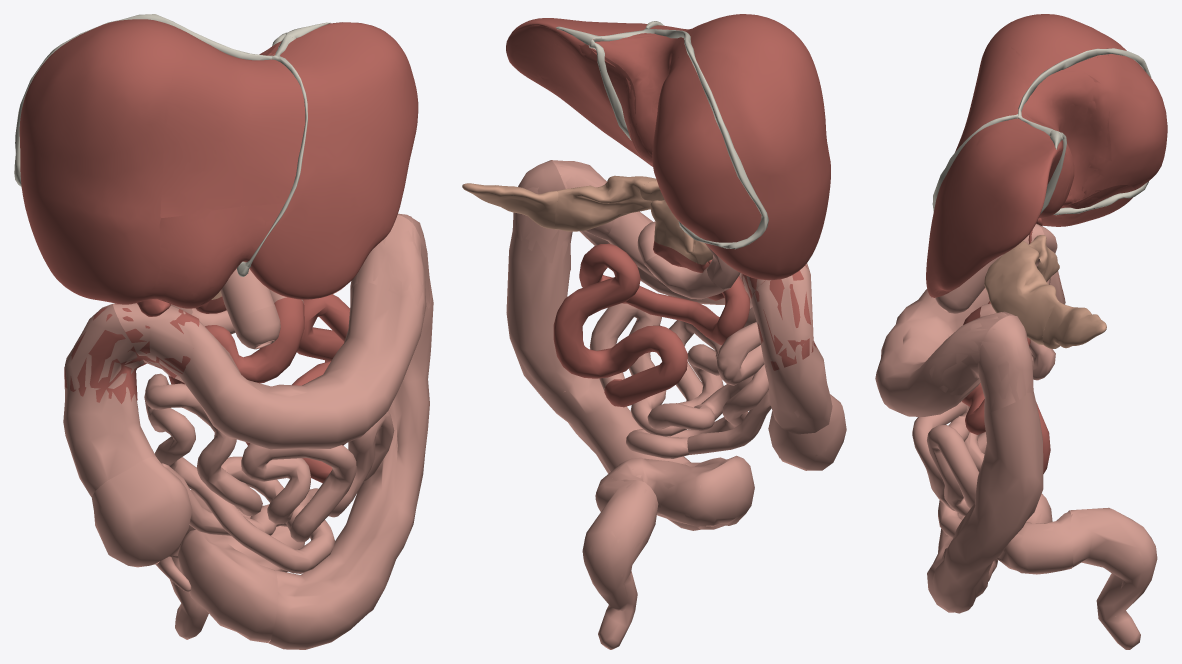
File: adult_female.digestive.LOD1.glb
3 renders of one model, left to right at view 1: azimuth 30°, elevation 25°; view 2: azimuth 150°, elevation 25°; view 3: azimuth 270°, elevation 25°, orthographic. The views are drawn at different scales.
Visible parts, largest first — view 1: ADULT.FEMALE.DIGESTIVE.CAPSULE_OF_THE_LIVER, ADULT.FEMALE.DIGESTIVE.TRANSVERSE_COLON, ADULT.FEMALE.DIGESTIVE.ILEUM, ADULT.FEMALE.DIGESTIVE.DESCENDING_COLON, ADULT.FEMALE.DIGESTIVE.LEFT_SUPEROMEDIAL_SEGMENT1, ADULT.FEMALE.DIGESTIVE.ASCENDING_COLON, ADULT.FEMALE.DIGESTIVE.SIGMOID_COLON, ADULT.FEMALE.DIGESTIVE.CAECUM, ADULT.FEMALE.DIGESTIVE.JEJENUM, ADULT.FEMALE.DIGESTIVE.LEFT_INFEROMEDIAL_SEGMENT, ADULT.FEMALE.DIGESTIVE.HEPATIC_FLEXURE_OF_COLON, ADULT.FEMALE.DIGESTIVE.CORONARY_LIGAMENT_OF_LIVER (+6 smaller); view 2: ADULT.FEMALE.DIGESTIVE.CAPSULE_OF_THE_LIVER, ADULT.FEMALE.DIGESTIVE.BARE_AREA_OF_LIVER, ADULT.FEMALE.DIGESTIVE.DESCENDING_COLON, ADULT.FEMALE.DIGESTIVE.JEJENUM, ADULT.FEMALE.DIGESTIVE.ILEUM, ADULT.FEMALE.DIGESTIVE.ASCENDING_COLON, ADULT.FEMALE.DIGESTIVE.RECTUM, ADULT.FEMALE.DIGESTIVE.SIGMOID_COLON, ADULT.FEMALE.DIGESTIVE.DIAPHRAGMATIC_SURFACE_OF_LIVER, ADULT.FEMALE.DIGESTIVE.BODY_OF_PANCREAS, ADULT.FEMALE.DIGESTIVE.TRANSVERSE_COLON, ADULT.FEMALE.DIGESTIVE.CAECUM (+13 smaller); view 3: ADULT.FEMALE.DIGESTIVE.CAPSULE_OF_THE_LIVER, ADULT.FEMALE.DIGESTIVE.DESCENDING_COLON, ADULT.FEMALE.DIGESTIVE.BARE_AREA_OF_LIVER, ADULT.FEMALE.DIGESTIVE.TRANSVERSE_COLON, ADULT.FEMALE.DIGESTIVE.RECTUM, ADULT.FEMALE.DIGESTIVE.ILEUM, ADULT.FEMALE.DIGESTIVE.BODY_OF_PANCREAS, ADULT.FEMALE.DIGESTIVE.SIGMOID_COLON, ADULT.FEMALE.DIGESTIVE.CAUDATE_LOBE, ADULT.FEMALE.DIGESTIVE.SPLENIC_FLEXURE_OF_COLON, ADULT.FEMALE.DIGESTIVE.TAIL_OF_PANCREAS, ADULT.FEMALE.DIGESTIVE.CORONARY_LIGAMENT_OF_LIVER (+8 smaller).
Boxes of the visible parts, x1=… form: ADULT.FEMALE.DIGESTIVE.CAPSULE_OF_THE_LIVER: x1=19, y1=19, x2=418, y2=308; ADULT.FEMALE.DIGESTIVE.TRANSVERSE_COLON: x1=113, y1=215, x2=426, y2=449; ADULT.FEMALE.DIGESTIVE.ILEUM: x1=144, y1=373, x2=394, y2=573; ADULT.FEMALE.DIGESTIVE.DESCENDING_COLON: x1=268, y1=213, x2=433, y2=649; ADULT.FEMALE.DIGESTIVE.LEFT_SUPEROMEDIAL_SEGMENT1: x1=160, y1=43, x2=308, y2=217; ADULT.FEMALE.DIGESTIVE.ASCENDING_COLON: x1=63, y1=304, x2=155, y2=496; ADULT.FEMALE.DIGESTIVE.SIGMOID_COLON: x1=178, y1=505, x2=304, y2=642; ADULT.FEMALE.DIGESTIVE.CAECUM: x1=91, y1=456, x2=192, y2=567; ADULT.FEMALE.DIGESTIVE.JEJENUM: x1=168, y1=294, x2=349, y2=483; ADULT.FEMALE.DIGESTIVE.LEFT_INFEROMEDIAL_SEGMENT: x1=149, y1=203, x2=283, y2=307; ADULT.FEMALE.DIGESTIVE.HEPATIC_FLEXURE_OF_COLON: x1=64, y1=303, x2=199, y2=403; ADULT.FEMALE.DIGESTIVE.CORONARY_LIGAMENT_OF_LIVER: x1=14, y1=14, x2=294, y2=186; ADULT.FEMALE.DIGESTIVE.CAPSULE_OF_THE_LIVER: x1=506, y1=14, x2=830, y2=280; ADULT.FEMALE.DIGESTIVE.BARE_AREA_OF_LIVER: x1=588, y1=35, x2=761, y2=242; ADULT.FEMALE.DIGESTIVE.DESCENDING_COLON: x1=506, y1=160, x2=701, y2=530; ADULT.FEMALE.DIGESTIVE.JEJENUM: x1=553, y1=243, x2=749, y2=407; ADULT.FEMALE.DIGESTIVE.ILEUM: x1=589, y1=303, x2=768, y2=458; ADULT.FEMALE.DIGESTIVE.ASCENDING_COLON: x1=751, y1=263, x2=832, y2=434; ADULT.FEMALE.DIGESTIVE.RECTUM: x1=582, y1=479, x2=658, y2=649; ADULT.FEMALE.DIGESTIVE.SIGMOID_COLON: x1=595, y1=455, x2=754, y2=529; ADULT.FEMALE.DIGESTIVE.DIAPHRAGMATIC_SURFACE_OF_LIVER: x1=506, y1=24, x2=779, y2=280; ADULT.FEMALE.DIGESTIVE.BODY_OF_PANCREAS: x1=554, y1=175, x2=656, y2=231; ADULT.FEMALE.DIGESTIVE.TRANSVERSE_COLON: x1=550, y1=160, x2=765, y2=308; ADULT.FEMALE.DIGESTIVE.CAECUM: x1=768, y1=394, x2=846, y2=470; ADULT.FEMALE.DIGESTIVE.CAPSULE_OF_THE_LIVER: x1=926, y1=14, x2=1134, y2=297; ADULT.FEMALE.DIGESTIVE.DESCENDING_COLON: x1=927, y1=315, x2=1043, y2=613; ADULT.FEMALE.DIGESTIVE.BARE_AREA_OF_LIVER: x1=1023, y1=55, x2=1167, y2=205; ADULT.FEMALE.DIGESTIVE.TRANSVERSE_COLON: x1=875, y1=288, x2=1014, y2=416; ADULT.FEMALE.DIGESTIVE.RECTUM: x1=1068, y1=507, x2=1157, y2=649; ADULT.FEMALE.DIGESTIVE.ILEUM: x1=912, y1=340, x2=1055, y2=538; ADULT.FEMALE.DIGESTIVE.BODY_OF_PANCREAS: x1=984, y1=248, x2=1059, y2=344; ADULT.FEMALE.DIGESTIVE.SIGMOID_COLON: x1=938, y1=493, x2=1073, y2=574; ADULT.FEMALE.DIGESTIVE.CAUDATE_LOBE: x1=1022, y1=71, x2=1112, y2=217; ADULT.FEMALE.DIGESTIVE.SPLENIC_FLEXURE_OF_COLON: x1=929, y1=312, x2=1033, y2=412; ADULT.FEMALE.DIGESTIVE.TAIL_OF_PANCREAS: x1=1042, y1=302, x2=1106, y2=348; ADULT.FEMALE.DIGESTIVE.CORONARY_LIGAMENT_OF_LIVER: x1=1018, y1=48, x2=1151, y2=215.
Bounding box in the file's own units: 0.253 × 0.4459 × 0.2012.
